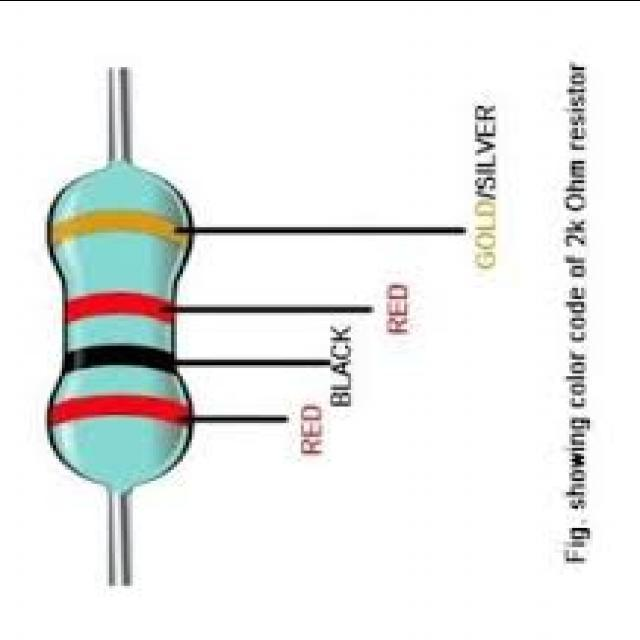Resistor: (47, 161, 191, 494)
gold: (46, 209, 195, 251)
red: (46, 395, 201, 427), (58, 291, 181, 322)
